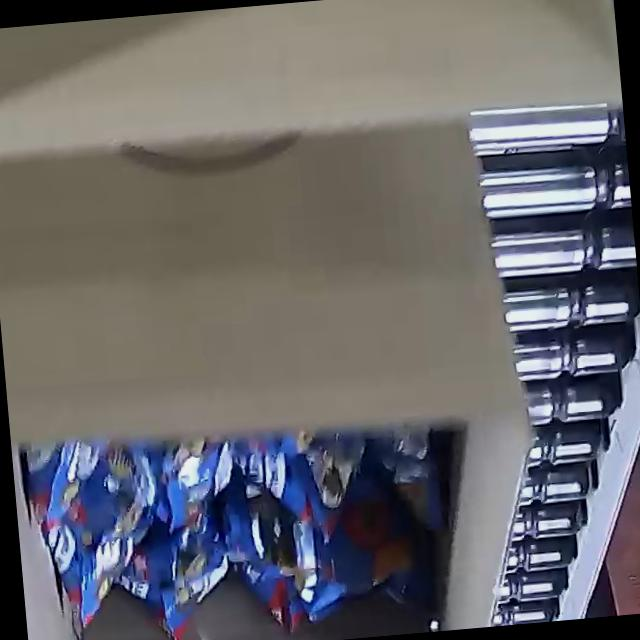paprika: (20, 408, 453, 640)
